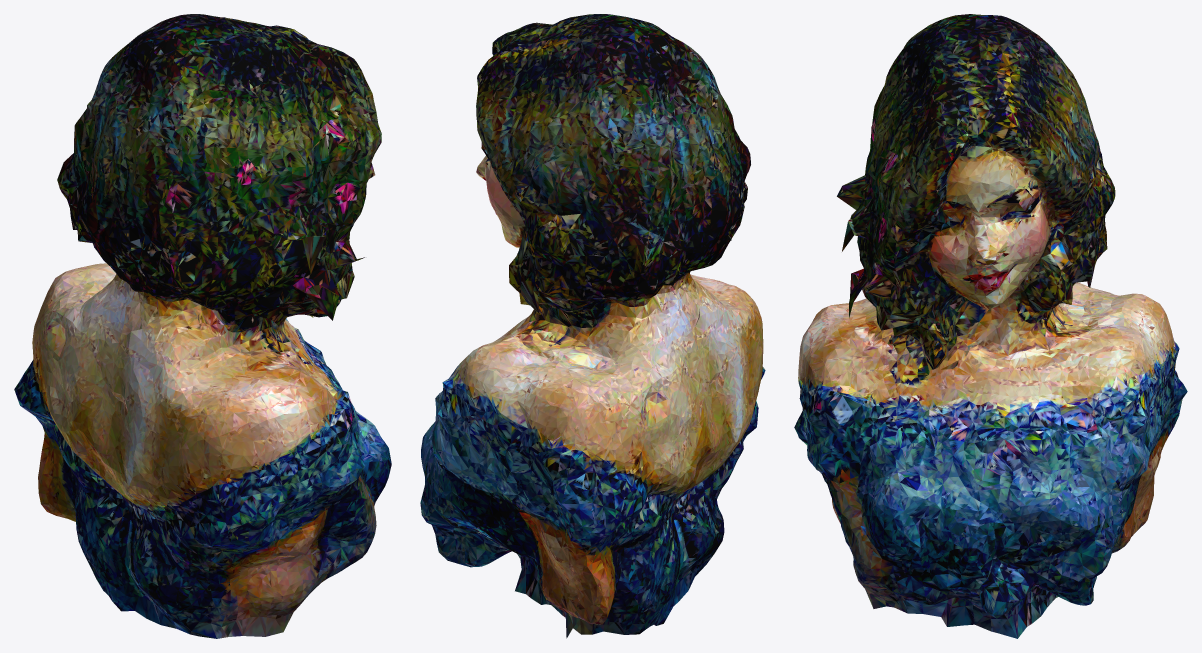
Rendered from girl1-canny.glb.
The picture shows the model from 3 angles, left to right: view 1: azimuth 30°, elevation 25°; view 2: azimuth 150°, elevation 25°; view 3: azimuth 270°, elevation 25°; orthographic projection. The views are drawn at different scales.
Parts seen in each view (by area): view 1: extracted_mesh; view 2: extracted_mesh; view 3: extracted_mesh.
Boxes of the visible parts, left/top/right/bottom form: extracted_mesh: left=14, top=14, right=391, bottom=638; extracted_mesh: left=420, top=14, right=765, bottom=638; extracted_mesh: left=794, top=14, right=1187, bottom=638.
Bounding box in the file's own units: 0.5804 × 1.18 × 0.7301.
1 material, 1 textured.
